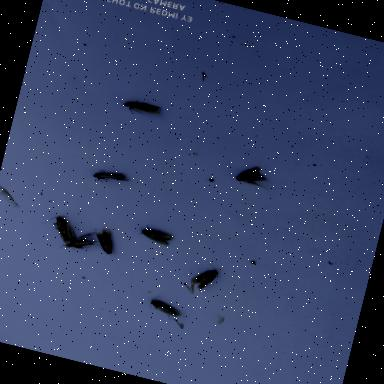pbw: (34, 208, 82, 249), (231, 158, 274, 194), (144, 292, 187, 326), (61, 224, 103, 258), (185, 257, 221, 296), (86, 164, 134, 192), (120, 96, 166, 124), (134, 220, 176, 249), (87, 223, 119, 258)
